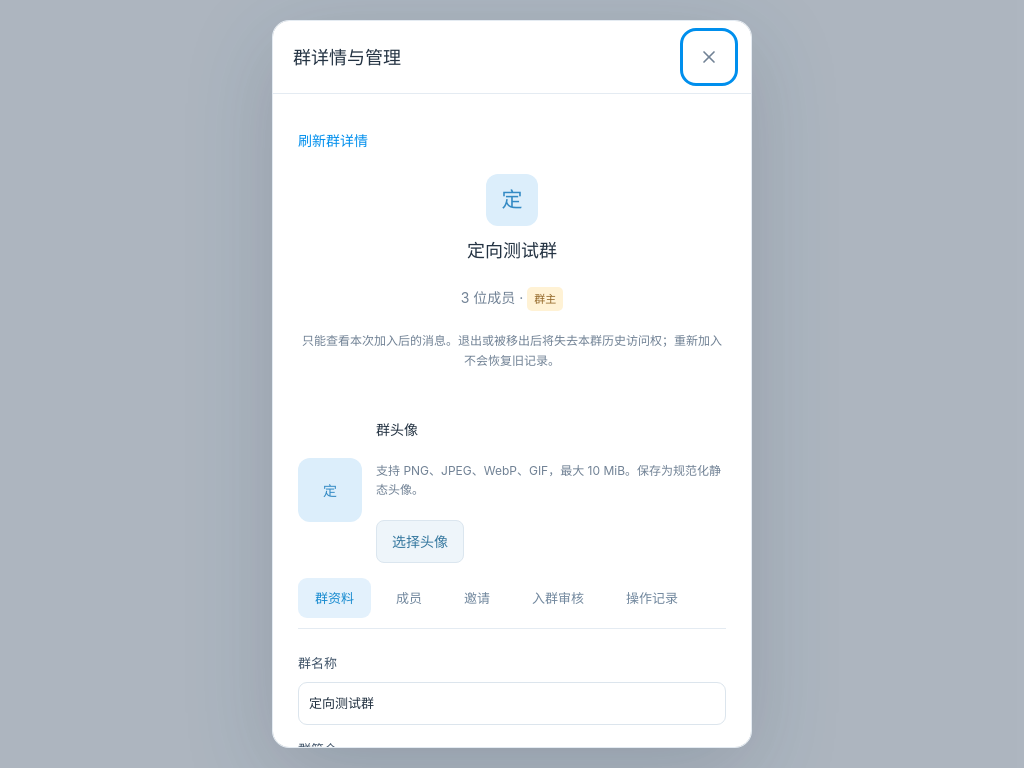
Test: M5-UI group creation and management › scopes reauthentication and ownership transfer to exact target period without optimistic role changes
Step 1. Click the button "成员" → (409, 598), box [379,578,439,618]
(page scrolled)
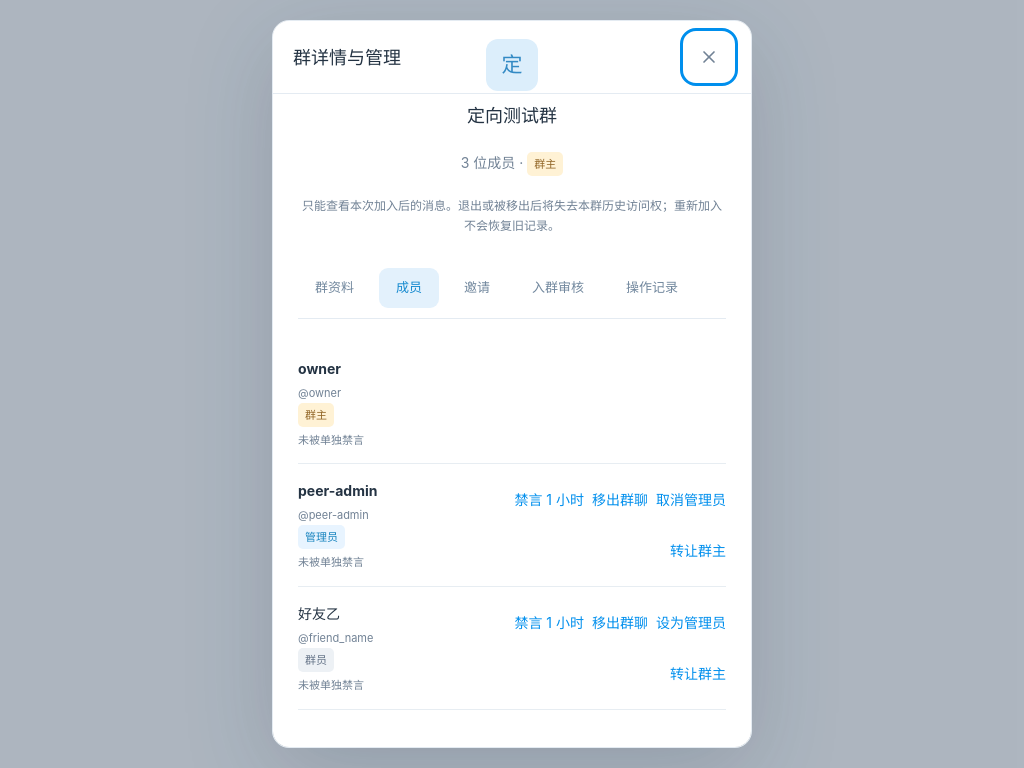
Result: the text "@friend_name" is shown at [298,629,373,647]
Step 2. Click the button "转让群主" in the row of "群员" → (698, 674), box [670,652,726,695]
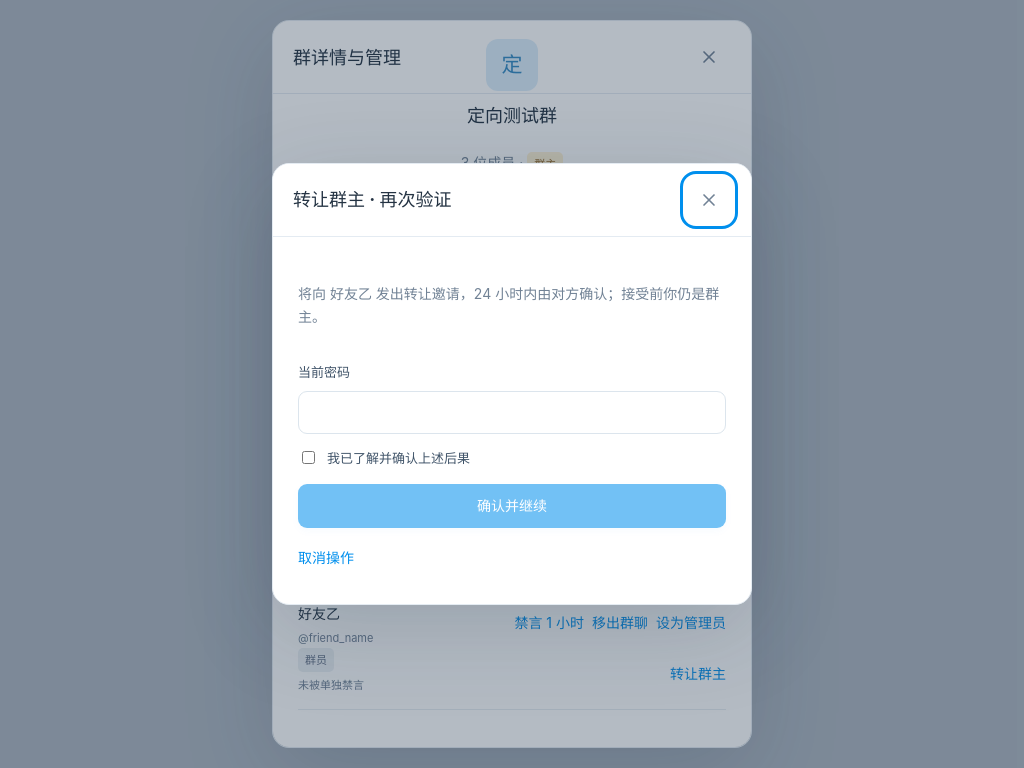
Step 3. Type "test-only-password" into the password field labelled "当前密码" → (512, 412), box [298,391,726,434]
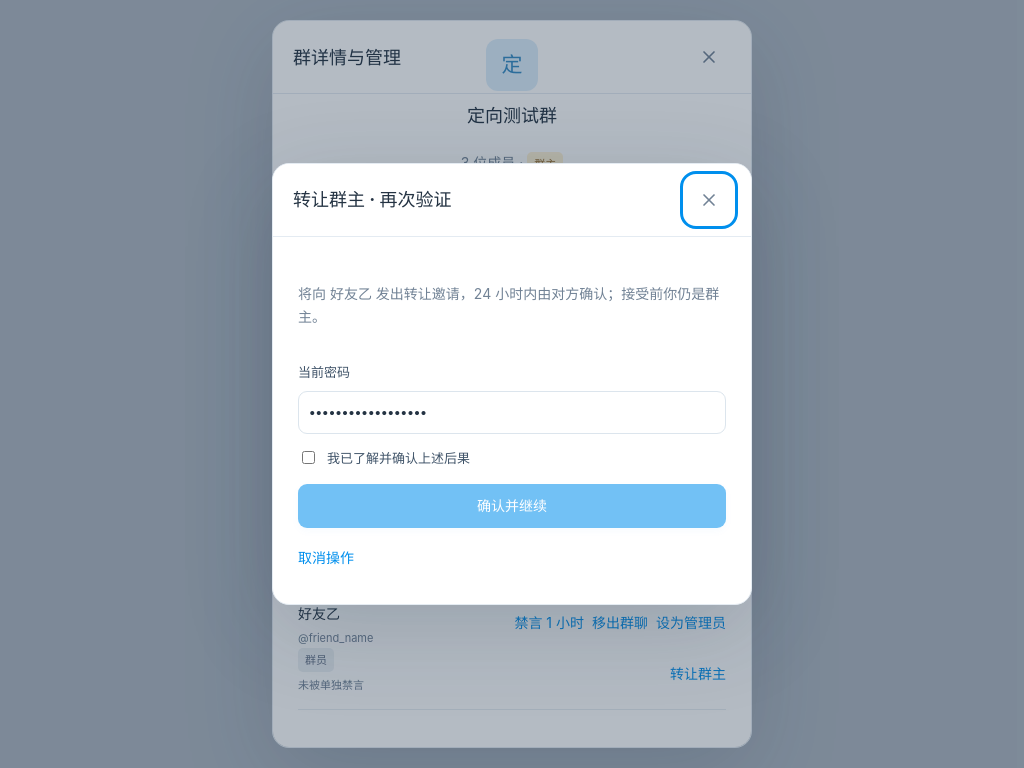
Step 4. Click the checkbox → (308, 458), box [302,451,315,464]
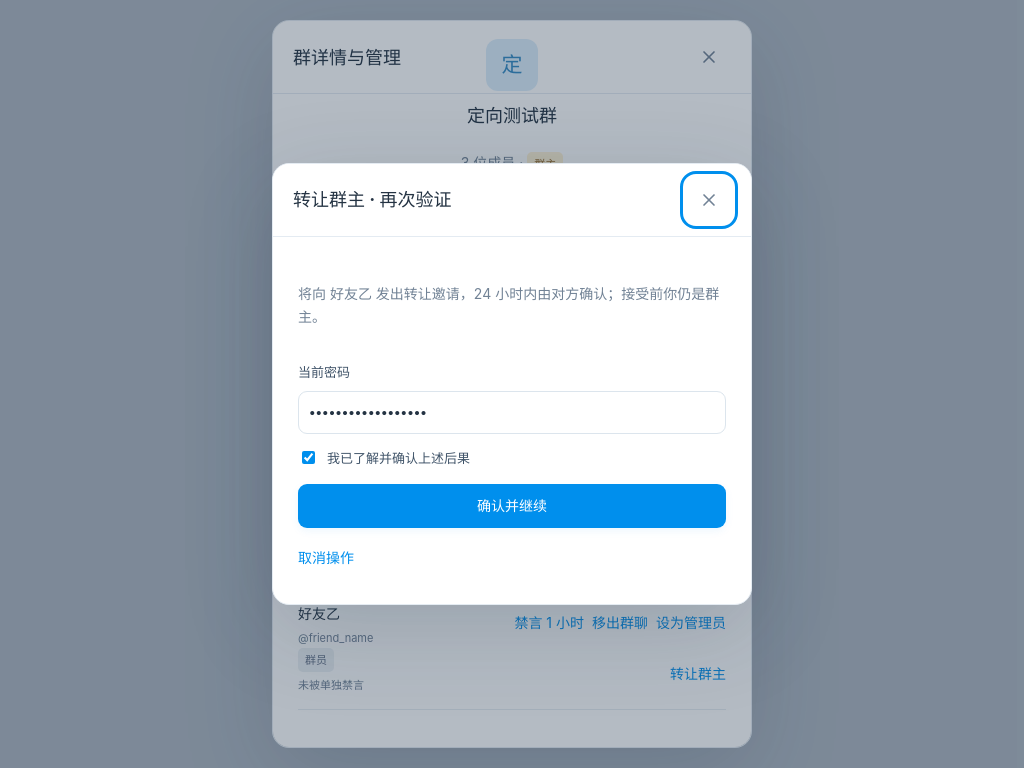
Step 5. Click the button "确认并继续" → (512, 506), box [298,484,726,528]
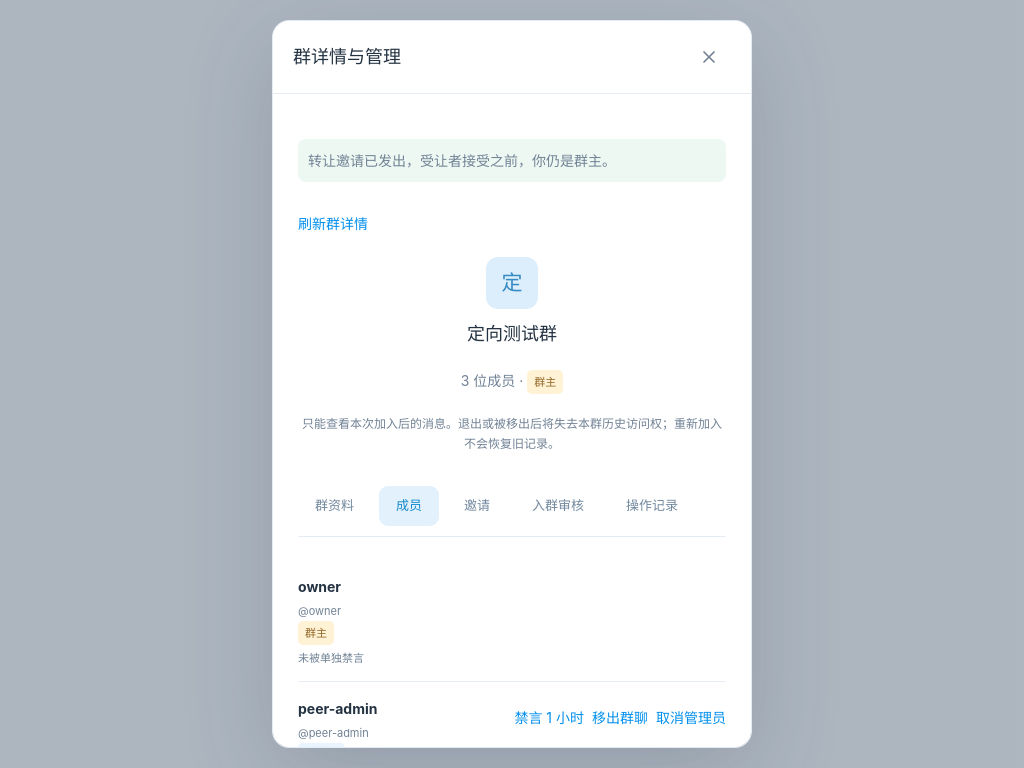
Result: the text "owner" is shown at [298,578,341,595]
Result: the text "转让邀请已发出，受让者接受之前，你仍是群主。" is shown at [298,139,726,182]
